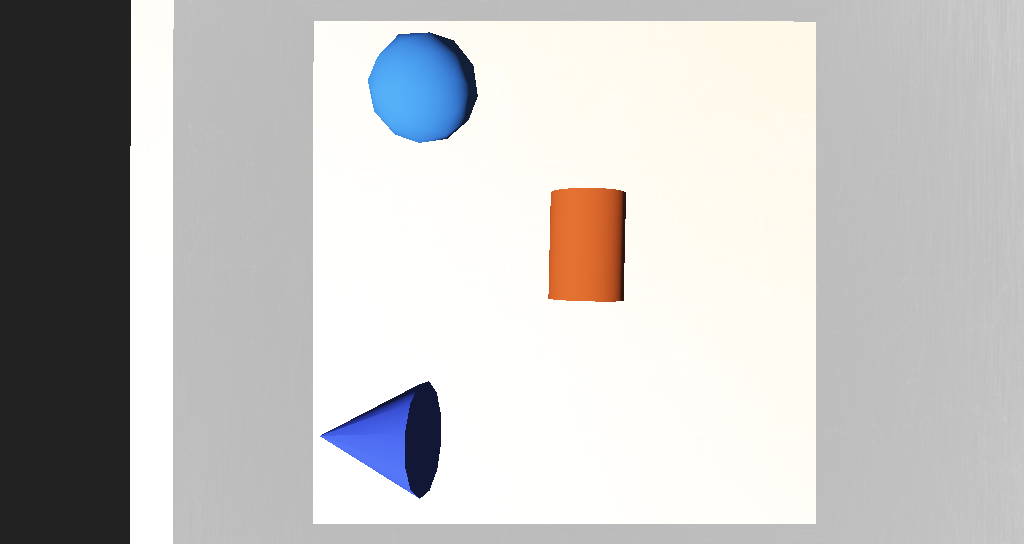cone: (495, 234, 542, 282)
cylinder: (347, 308, 435, 370)
sphere: (394, 174, 455, 217)
